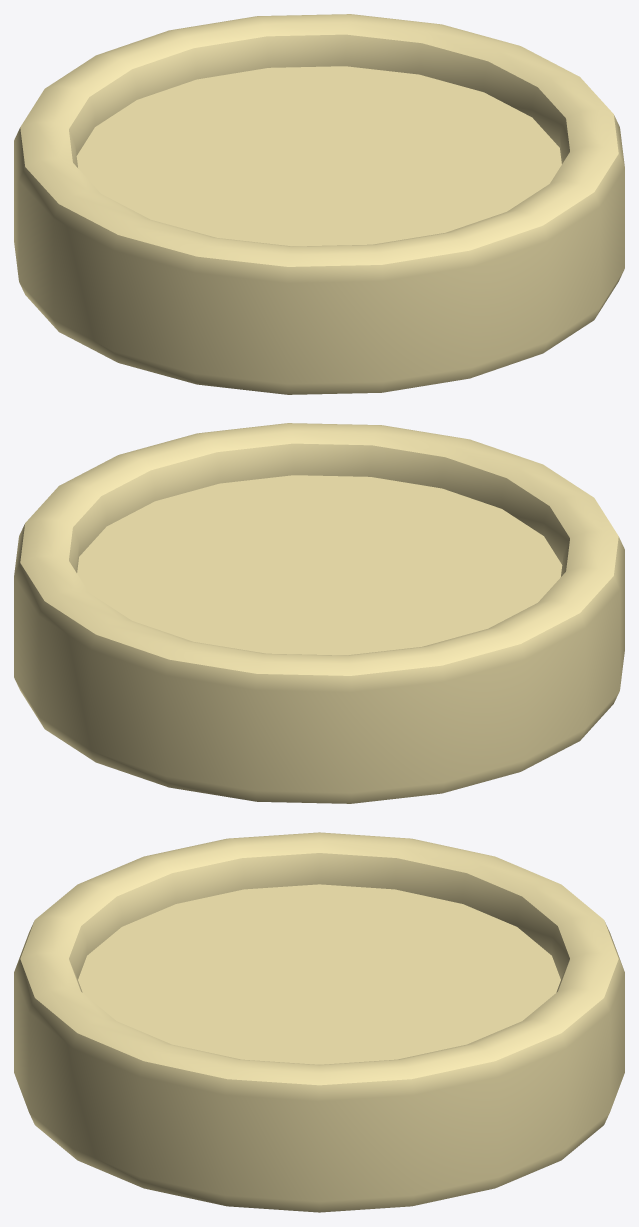
File: coin.fbx
3 views of the same model, one above another, from view 1: azimuth 30°, elevation 25°; view 2: azimuth 150°, elevation 25°; view 3: azimuth 270°, elevation 25° (orthographic).
Parts seen in each view (by area): view 1: pCylinder1; view 2: pCylinder1; view 3: pCylinder1.
Boxes of the visible parts, x1,y1,x2,y2 form: pCylinder1: (14, 14, 624, 394); pCylinder1: (14, 423, 624, 803); pCylinder1: (14, 832, 624, 1212).
Size of the model in its own units: 0.12 by 0.03 by 0.12.
